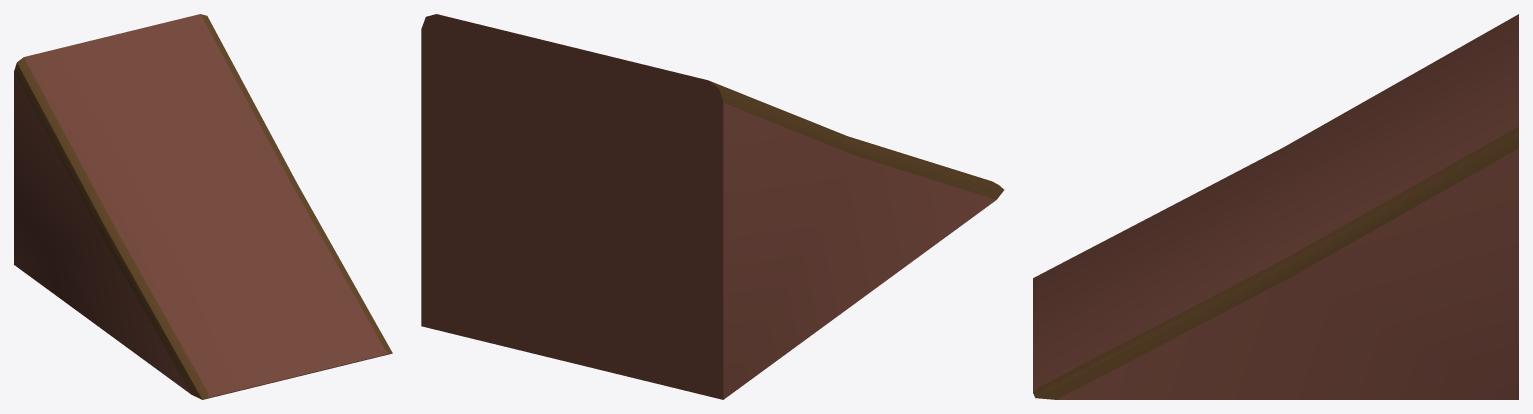
The model's file is (p) Brown Triangular block.fbx.
The picture shows the model from 3 angles, left to right: view 1: azimuth 30°, elevation 25°; view 2: azimuth 150°, elevation 25°; view 3: azimuth 270°, elevation 25°; orthographic projection. The views are drawn at different scales.
Visible parts, largest first — view 1: Triangalar Block.001; view 2: Triangalar Block.001; view 3: Triangalar Block.001.
Boxes of the visible parts, x1,y1,x2,y2 form: Triangalar Block.001: (14,14,392,399); Triangalar Block.001: (421,14,1004,399); Triangalar Block.001: (1033,14,1518,399).
Bounding box in the file's own units: 296 × 296 × 488.
